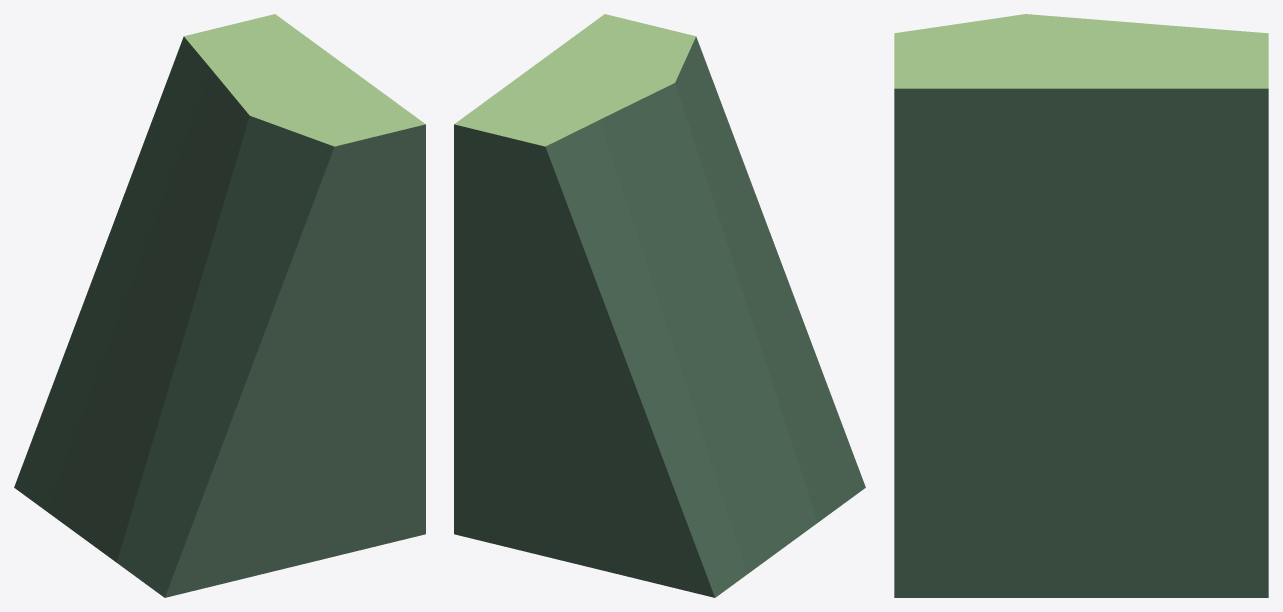
File: GroundEdge05.fbx
The picture shows the model from 3 angles, left to right: view 1: azimuth 30°, elevation 25°; view 2: azimuth 150°, elevation 25°; view 3: azimuth 270°, elevation 25°; orthographic projection. The views are drawn at different scales.
Visible parts, largest first — view 1: Cube.009; view 2: Cube.009; view 3: Cube.009.
Boxes of the visible parts, x1,y1,x2,y2 form: Cube.009: [14, 14, 425, 597]; Cube.009: [454, 14, 865, 597]; Cube.009: [894, 14, 1268, 597].
Bounding box in the file's own units: 100 × 150 × 100.
